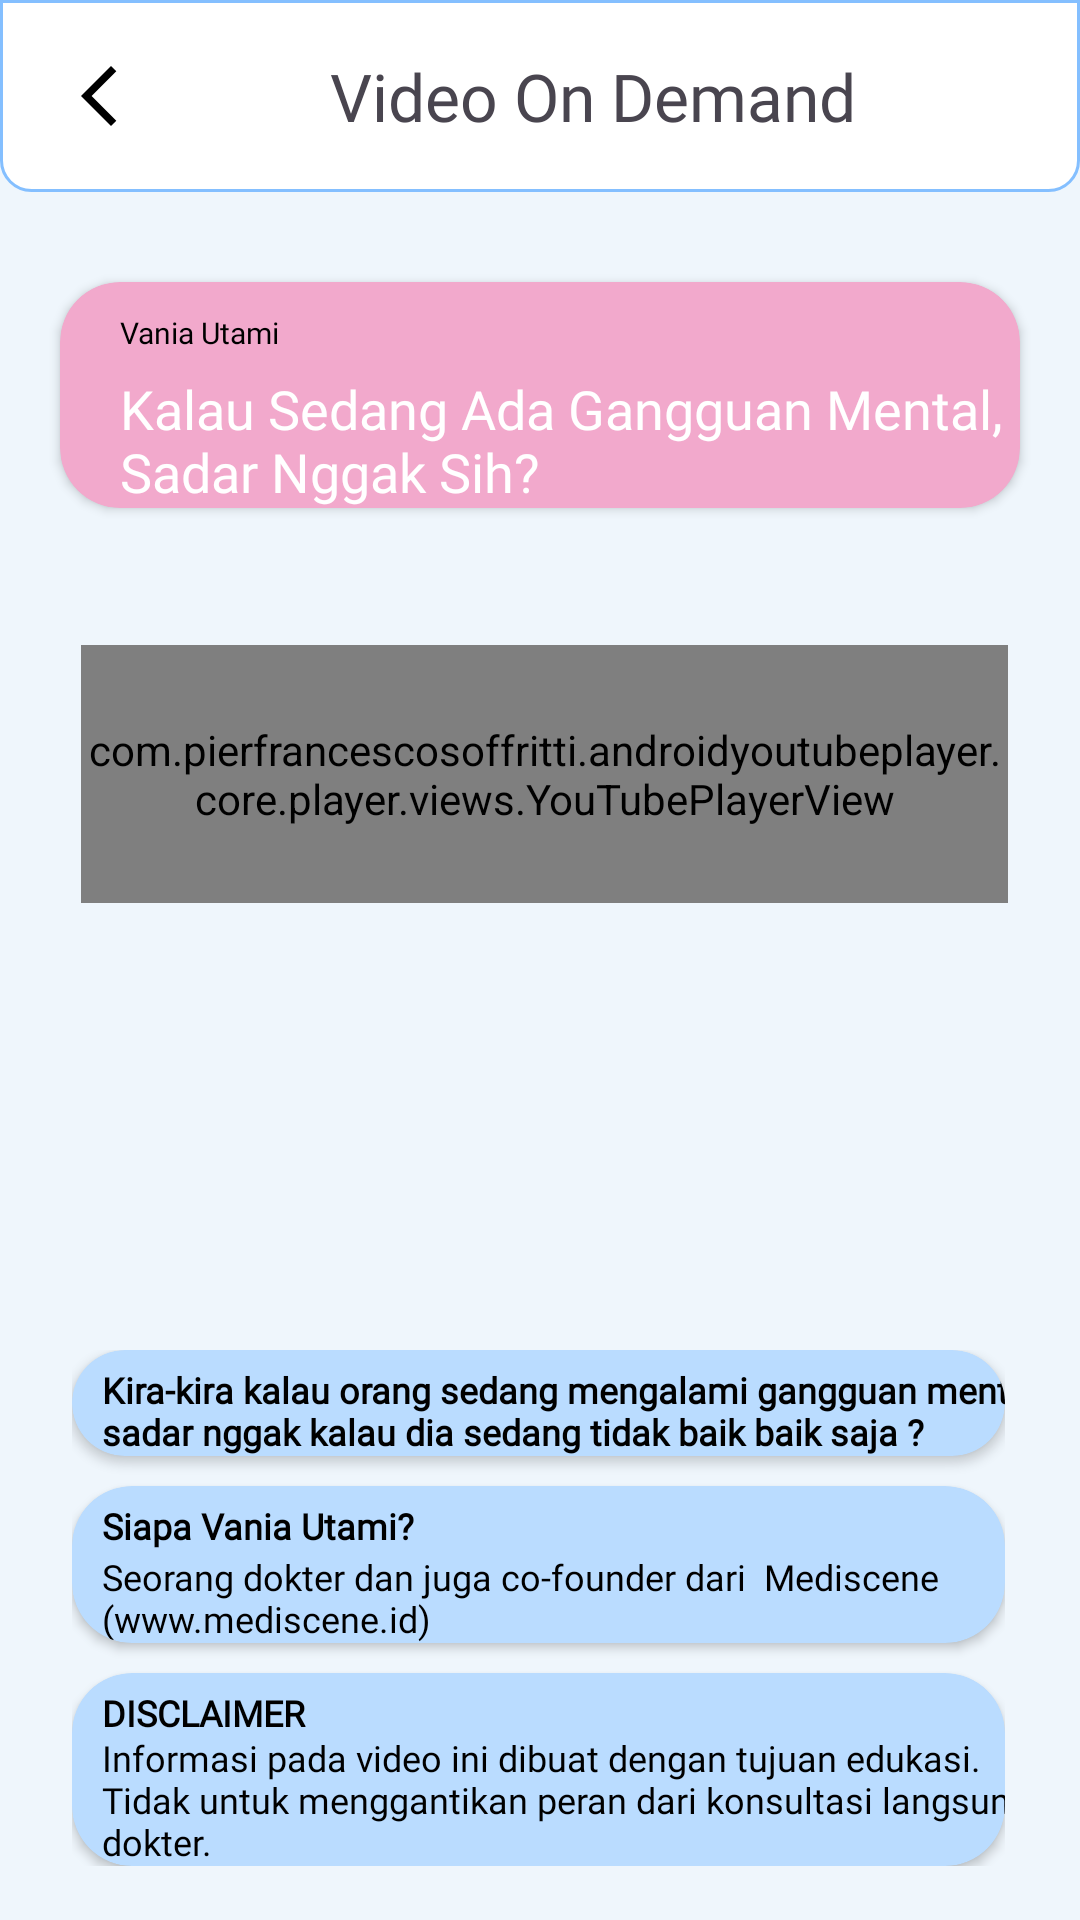

Screen size 1080 x 1920. Icon name, then its box in pixels as (x1, y1, x2, y2):
kembali: (81, 66, 116, 126)
